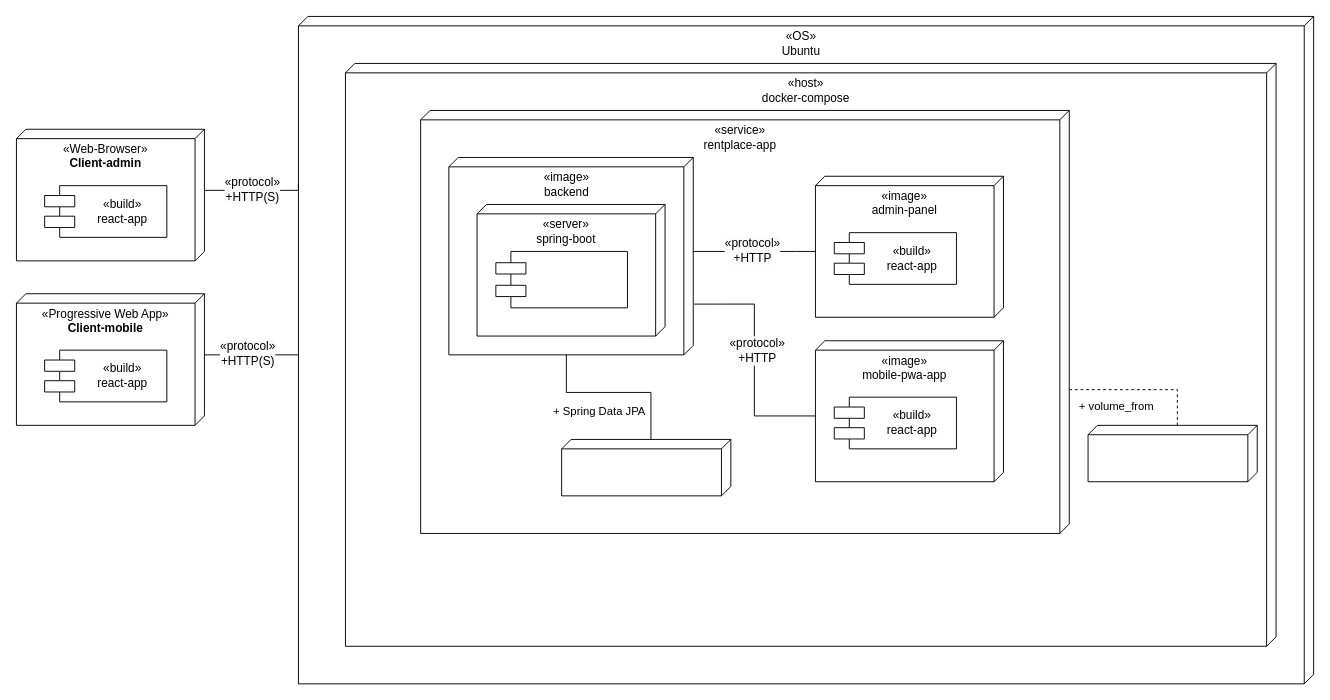
This 1330x700 diagram has some shape labels left out. Here are the shapes that lost their labels. From the top down, the centre of each, then its label:
pixel 561 279: «Spring Web » rentplace API
pixel 646 467: «image » postgres
pixel 1172 453: «image » postgres-db
